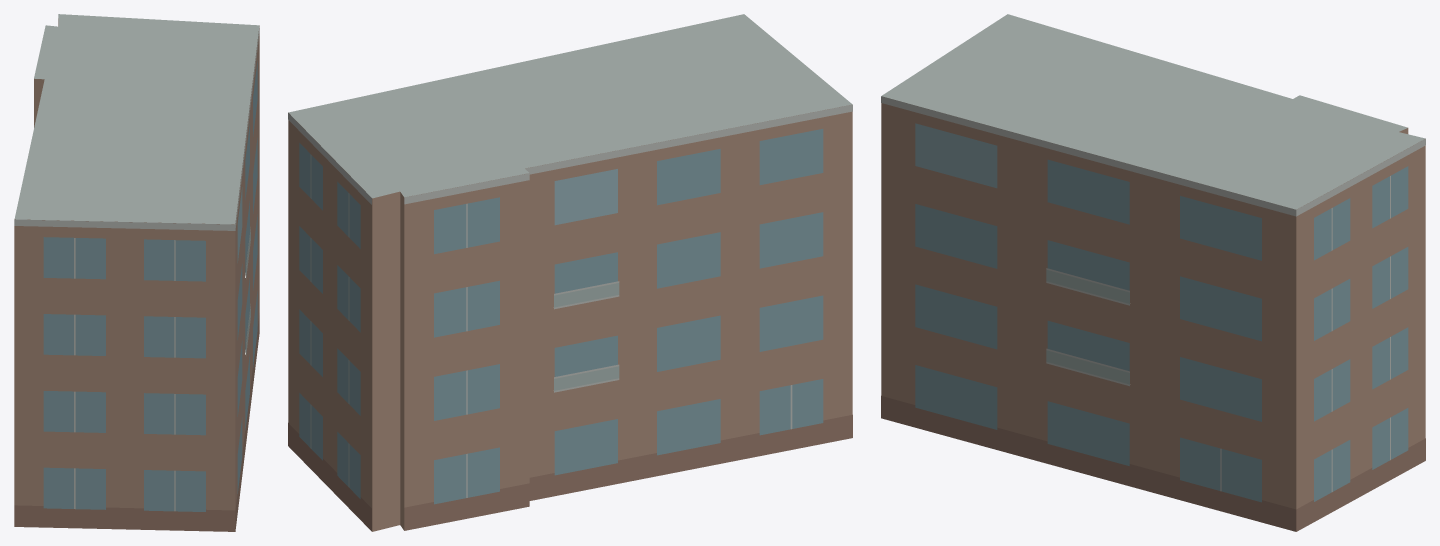
The model's file is survey-upis-33015281.glb.
3 renders of one model, left to right at view 1: azimuth 30°, elevation 25°; view 2: azimuth 150°, elevation 25°; view 3: azimuth 270°, elevation 25°, orthographic. The views are drawn at different scales.
Parts seen in each view (by area): view 1: survey-upis-33015281.tmp; view 2: survey-upis-33015281.tmp; view 3: survey-upis-33015281.tmp.
Part boxes in pixels (left/top/right/bottom): survey-upis-33015281.tmp: left=14, top=14, right=259, bottom=531; survey-upis-33015281.tmp: left=288, top=14, right=852, bottom=531; survey-upis-33015281.tmp: left=881, top=14, right=1425, bottom=531.
Size of the model in its own units: 14.99 by 11.5 by 17.63.
